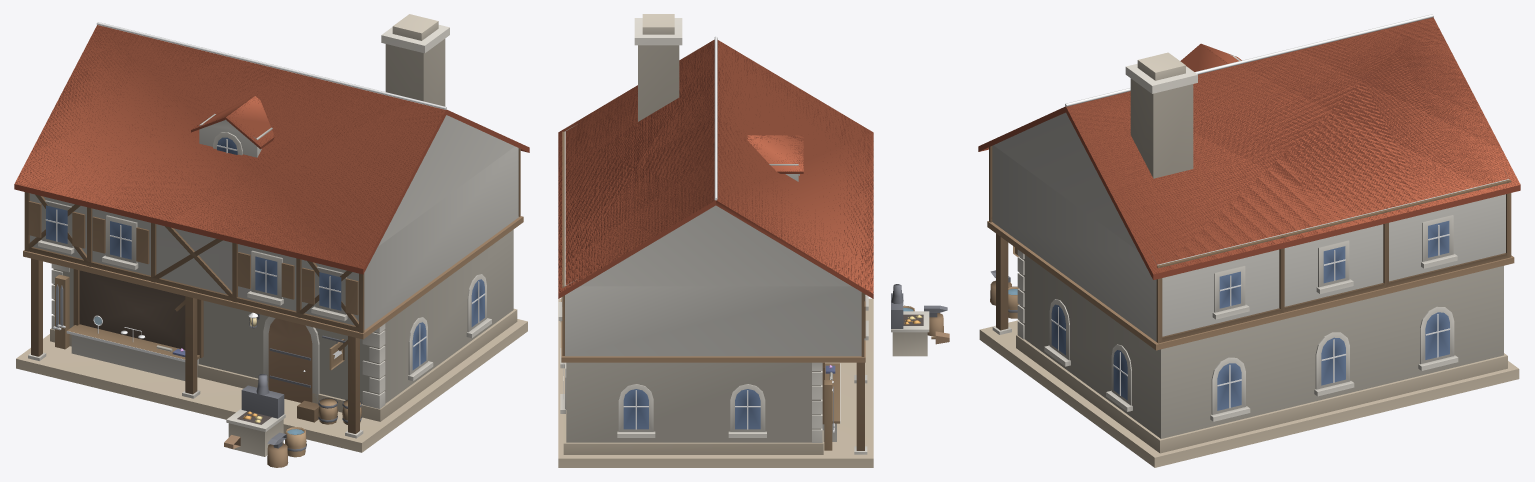
File: smith_hq.glb
The picture shows the model from 3 angles, left to right: view 1: azimuth 30°, elevation 25°; view 2: azimuth 150°, elevation 25°; view 3: azimuth 270°, elevation 25°; orthographic projection. The views are drawn at different scales.
Visible parts, largest first — view 1: Smith_roof, Smith_props, Smith_stone, Smith_gold; view 2: Smith_roof, Smith_props, Smith_stone, Smith_gold; view 3: Smith_roof, Smith_stone, Smith_props, Smith_gold.
Part boxes in pixels (x1,y1,x2,y2): Smith_roof: (14, 25, 529, 274); Smith_props: (23, 114, 523, 467); Smith_stone: (16, 14, 527, 456); Smith_gold: (45, 22, 485, 371); Smith_roof: (558, 39, 873, 298); Smith_props: (561, 124, 949, 450); Smith_stone: (558, 14, 929, 467); Smith_gold: (562, 36, 865, 432); Smith_roof: (978, 17, 1520, 279); Smith_stone: (979, 52, 1519, 467); Smith_props: (987, 54, 1514, 410); Smith_gold: (1051, 14, 1450, 408).
Size of the model in its own units: 14.57 by 10.9 by 15.34.
